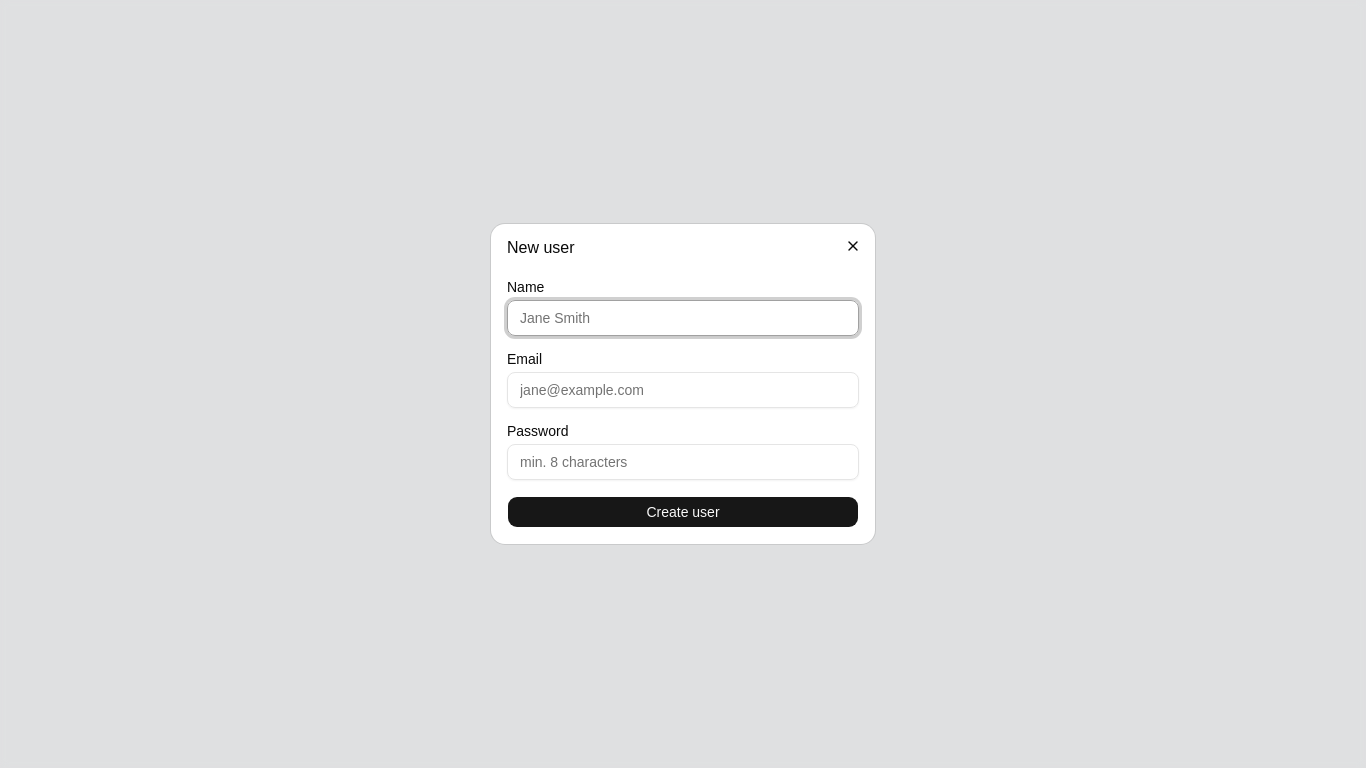
Test: UserDialog — create mode › validation › shows an error when name is too short
In the field labelled "Name": (683, 318) [507,300,859,336], type "ab"
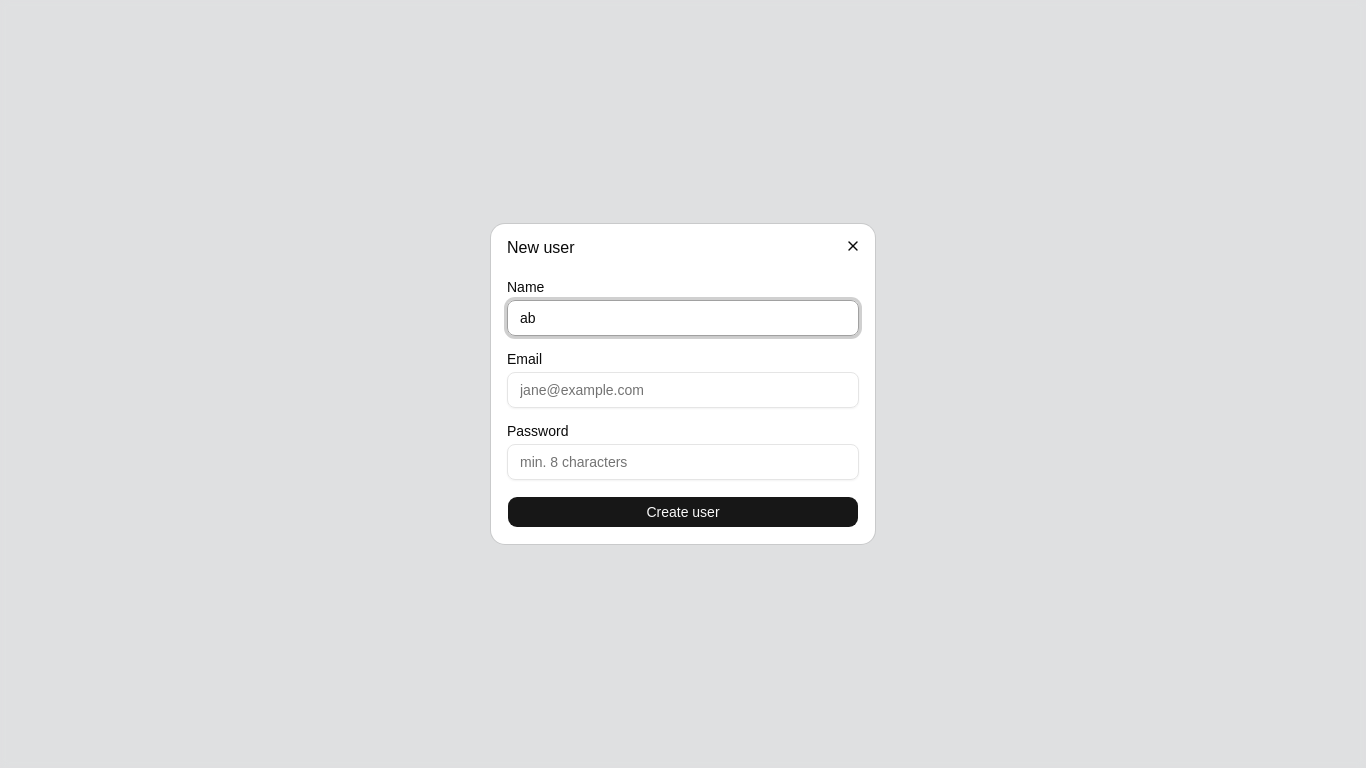
Click the button "Create user": (683, 512) [507,496,859,528]
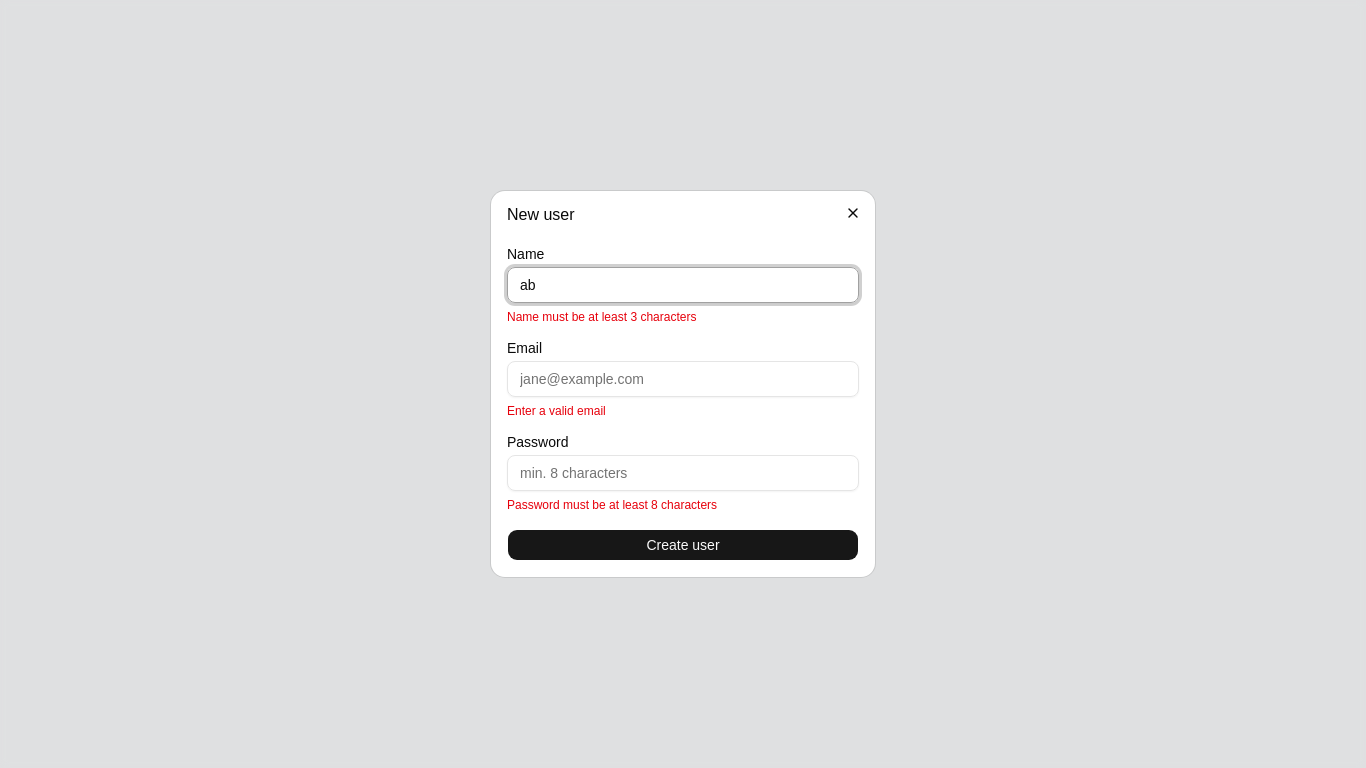
Now the text "Name must be at least 3 characters" is shown, box [507,310,696,324]
